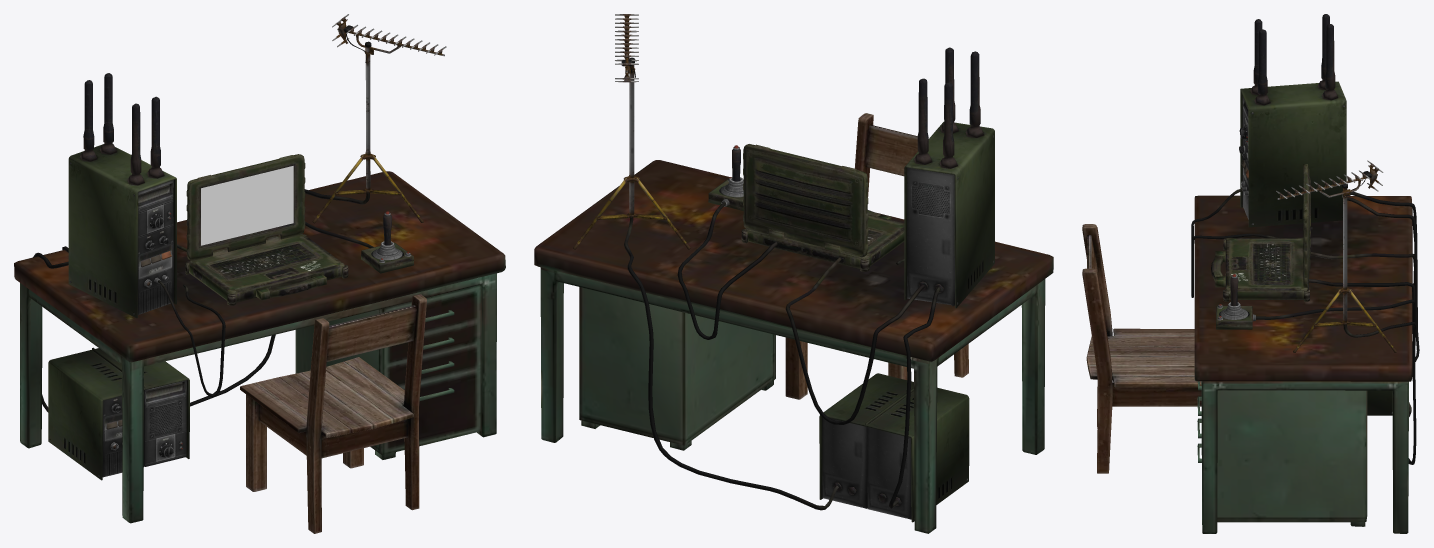
The model's file is computerstation.deployed.glb.
3 views of the same model, side by side, from view 1: azimuth 30°, elevation 25°; view 2: azimuth 150°, elevation 25°; view 3: azimuth 270°, elevation 25° (orthographic). The views are drawn at different scales.
Parts seen in each view (by area): view 1: computerstation_LOD0, FakeScreen; view 2: computerstation_LOD0; view 3: computerstation_LOD0.
Part boxes in pixels (box(x1,y1,x2,y2)): computerstation_LOD0: box(14, 14, 505, 533); FakeScreen: box(201, 166, 293, 245); computerstation_LOD0: box(534, 14, 1053, 533); computerstation_LOD0: box(1082, 14, 1419, 533).
Bounding box in the file's own units: 1.65 × 1.63 × 1.37.
Materials: 6 (5 with a texture image).
